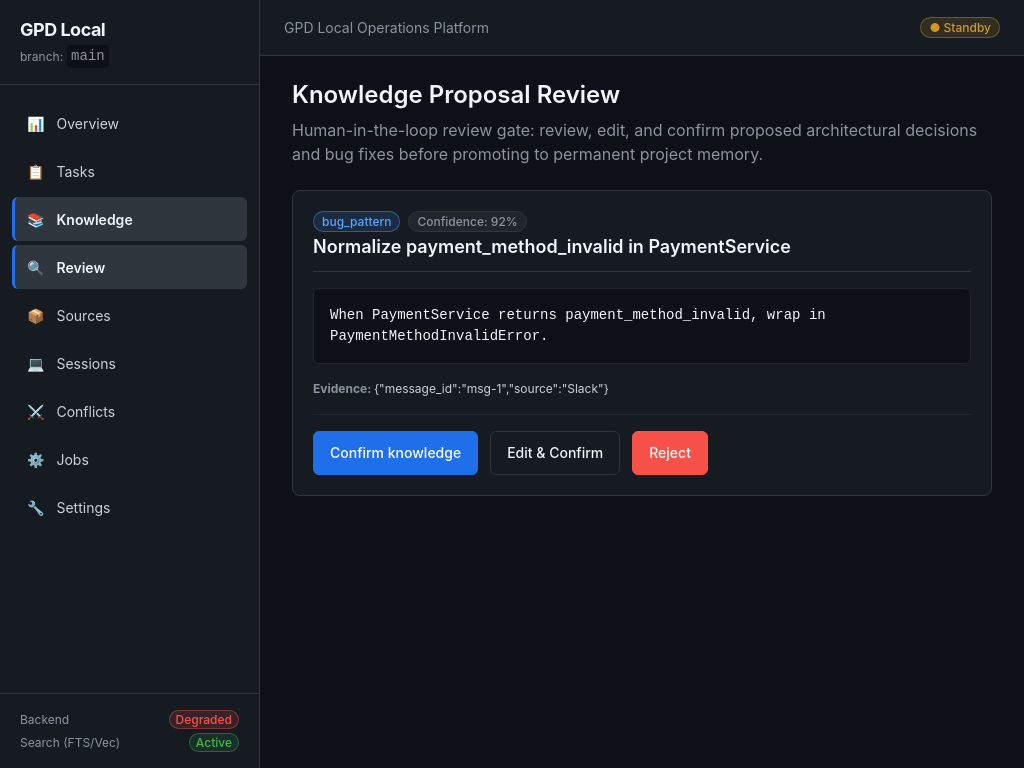
KnowledgeReviewPage › rejects a proposal on reject button click
This screenshot has width=1024, height=768.
Click the button "Reject": [670, 452] box [632, 430, 708, 474]
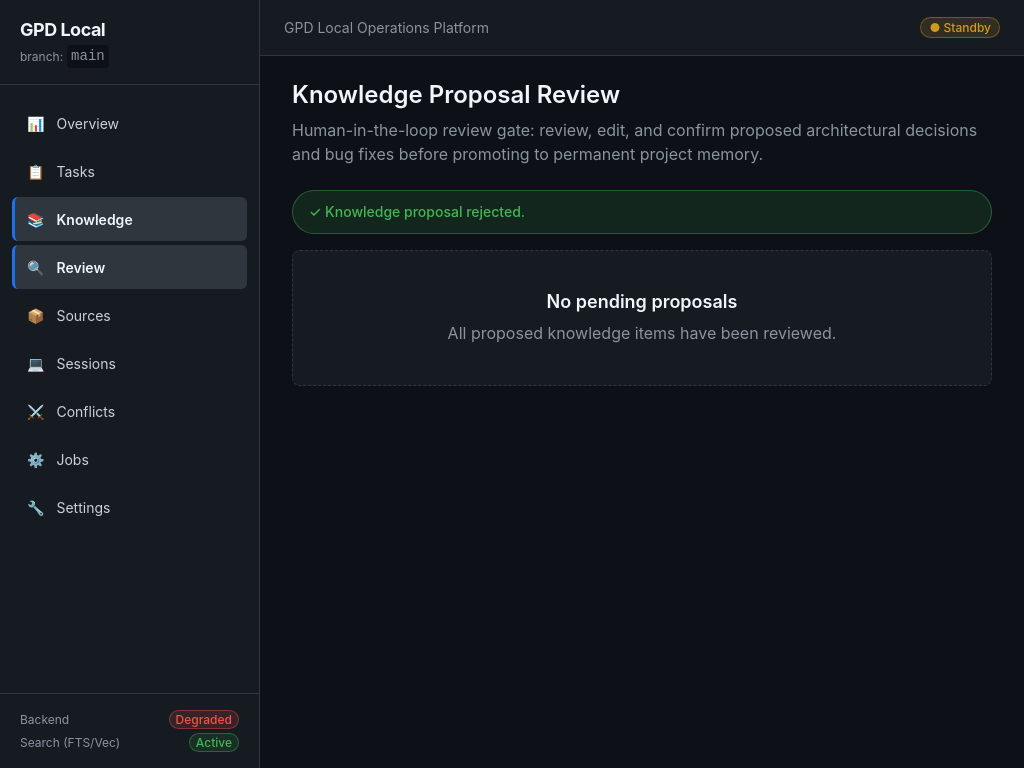
Expected: the text "✓ Knowledge proposal rejected." is shown, [292, 190, 992, 234]
